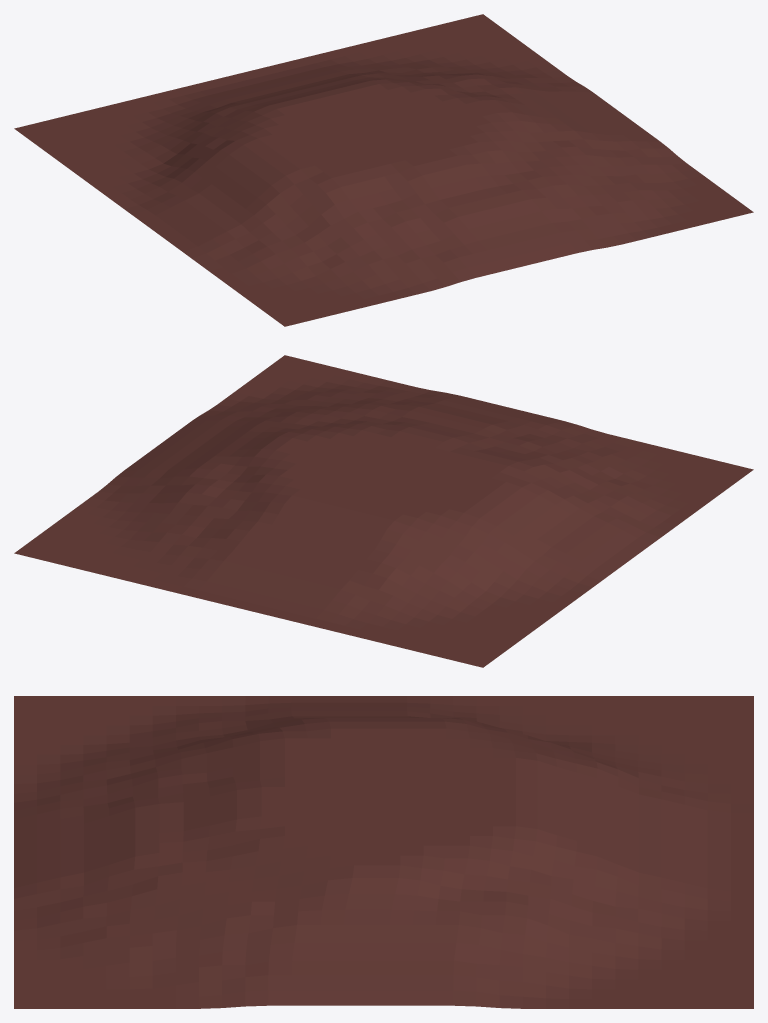
The picture shows the model from 3 angles, top to bottom: view 1: azimuth 30°, elevation 25°; view 2: azimuth 150°, elevation 25°; view 3: azimuth 270°, elevation 25°; orthographic projection. The views are drawn at different scales.
Visible parts, largest first — view 1: Plane; view 2: Plane; view 3: Plane.
Part boxes in pixels (box(x1,y1,x2,y2)): Plane: box(14, 14, 753, 326); Plane: box(14, 355, 753, 667); Plane: box(14, 696, 753, 1008).
Size of what is drawn, in the model's own units: 4.35 by 0.3591 by 4.35.
